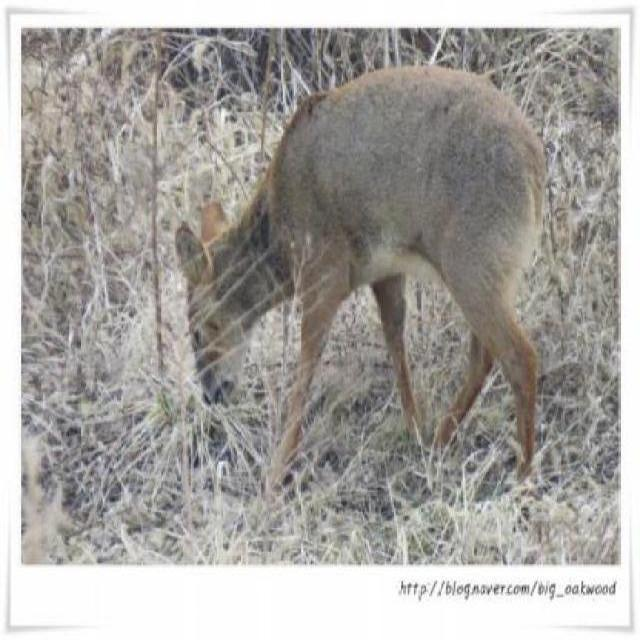deer: (168, 67, 550, 496)
